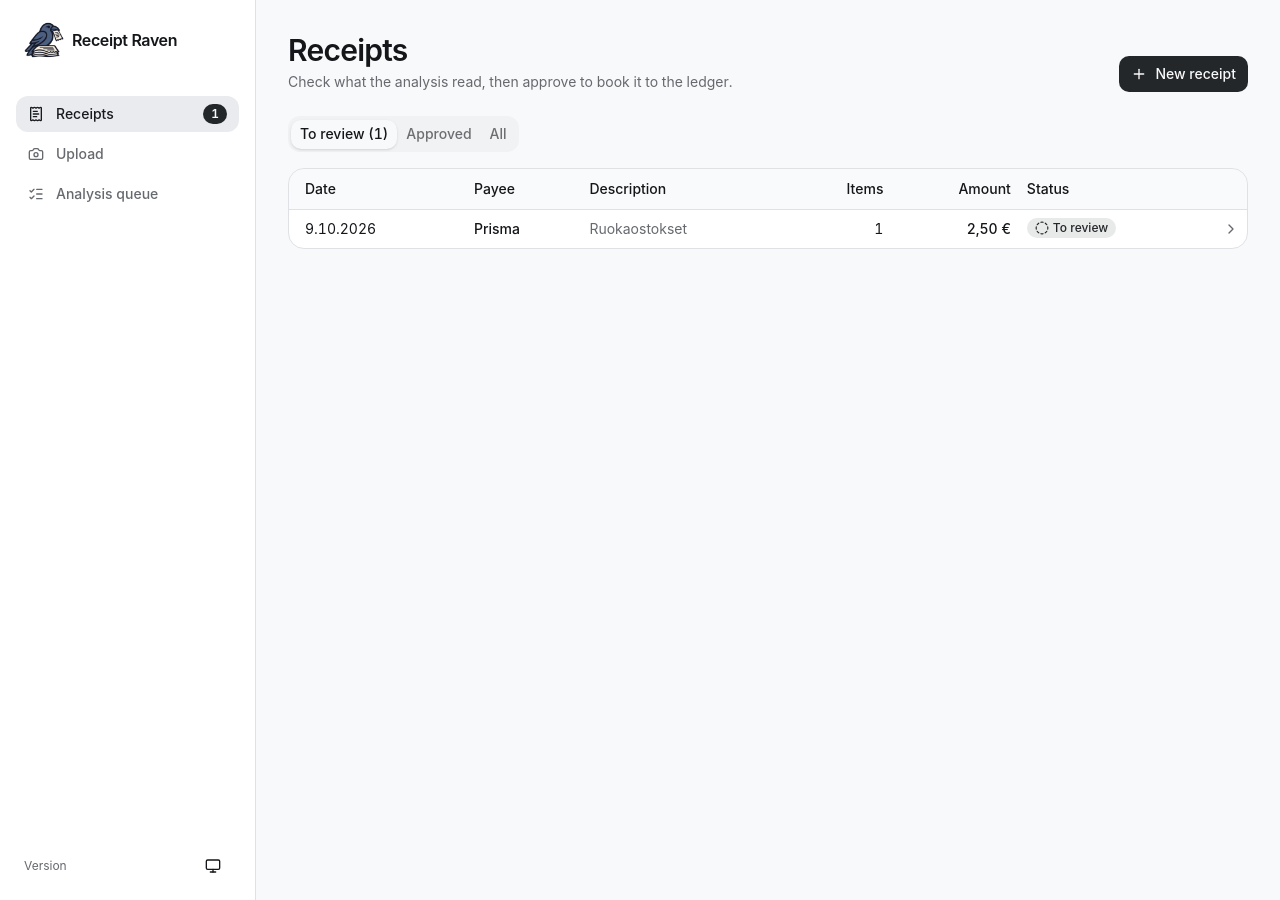
Test: receipt list › the All tab includes approved receipts
Click the tab "All" at (498, 134), box [481,120,516,148]
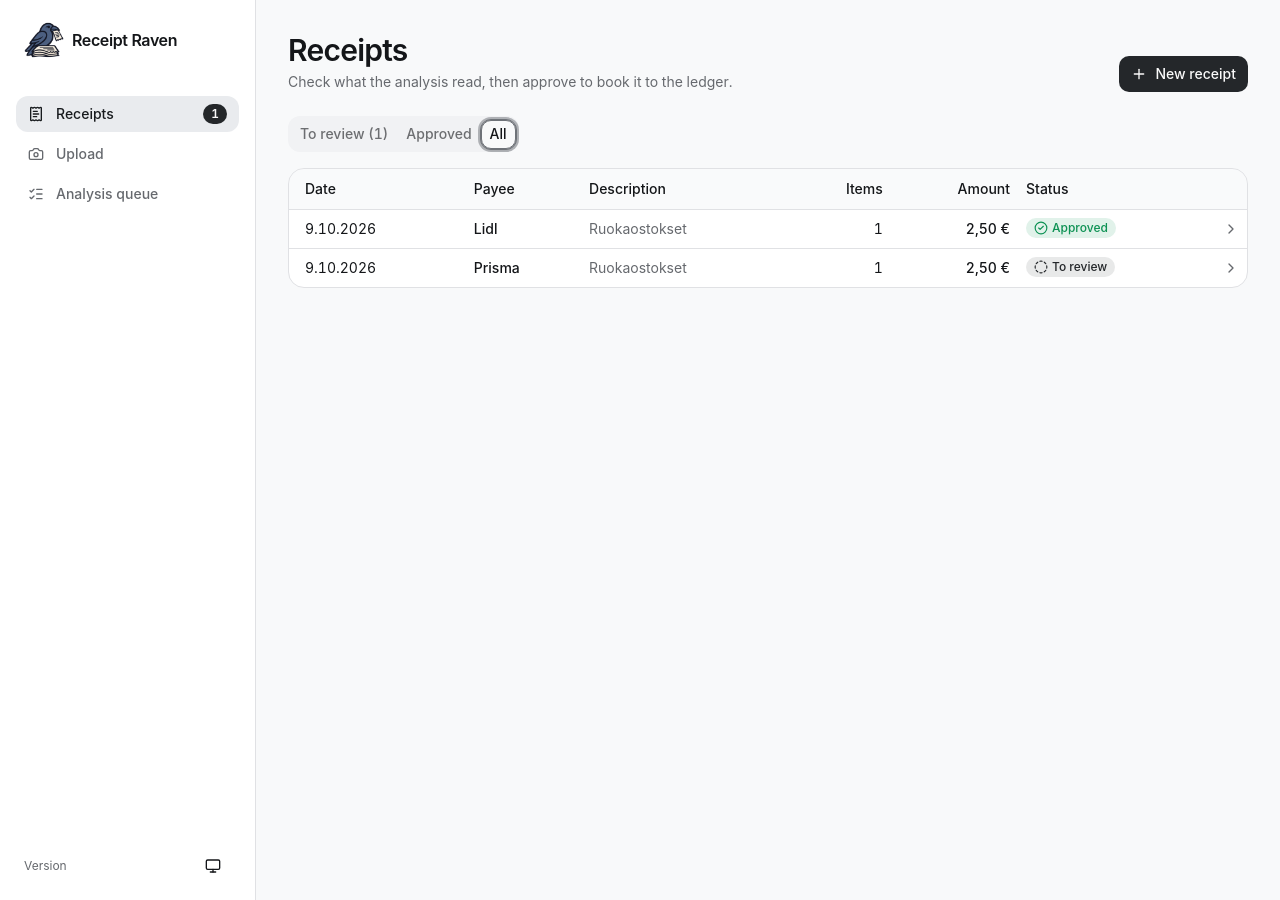
Expected: the link "Prisma" is shown, [474,258,520,276]
Now the link "Lidl" is shown, box [474,220,497,236]
